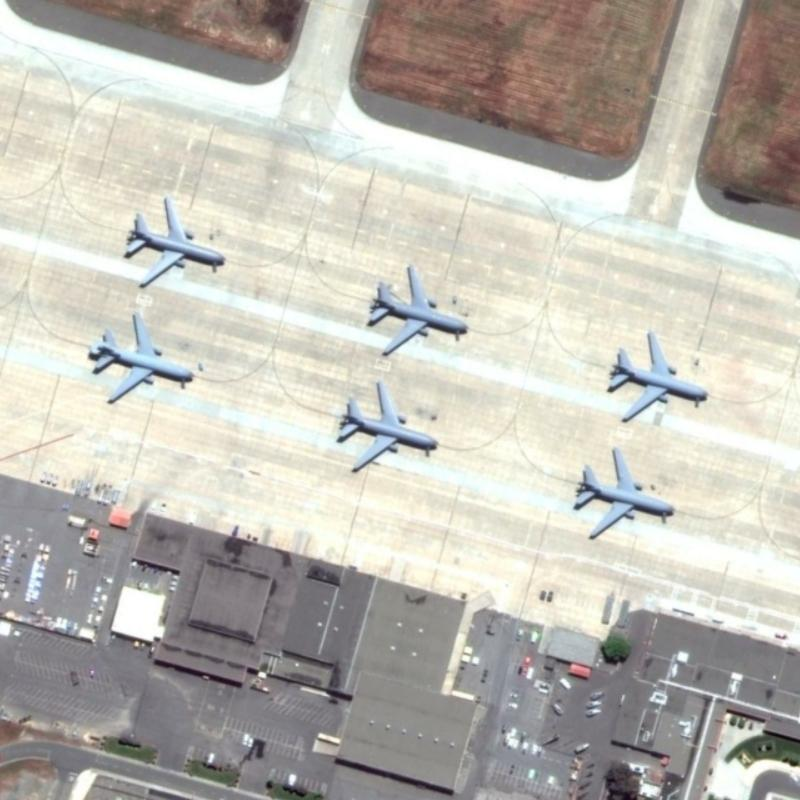A18: (119, 188, 229, 292), (566, 442, 679, 542), (83, 306, 196, 405), (331, 376, 441, 474), (363, 260, 470, 359), (605, 328, 713, 422)
